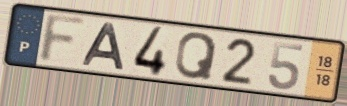2: (222, 37, 259, 86)
4: (131, 24, 168, 79)
5: (266, 39, 306, 91)
A: (80, 21, 127, 72)
F: (36, 12, 91, 66)
Q: (173, 31, 220, 82)
